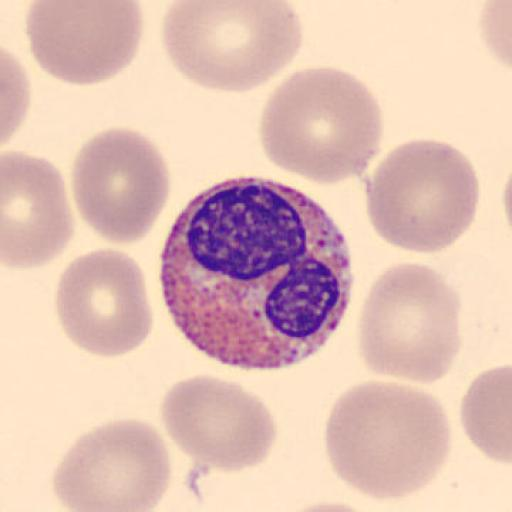RBC: (321, 378, 454, 504), (259, 64, 385, 187), (366, 136, 480, 255), (162, 0, 304, 95), (357, 260, 464, 386), (158, 372, 280, 473), (70, 126, 172, 245), (50, 416, 173, 512), (52, 246, 154, 359), (24, 0, 145, 87), (2, 148, 76, 271), (459, 362, 512, 466), (1, 46, 32, 147), (478, 0, 512, 69), (280, 502, 384, 512), (500, 165, 512, 247), (500, 156, 512, 234)
WBC: (158, 176, 355, 370)
